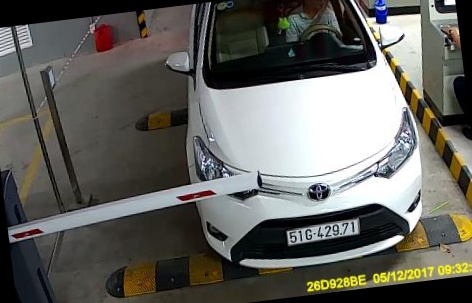plate: (284, 216, 361, 249)
